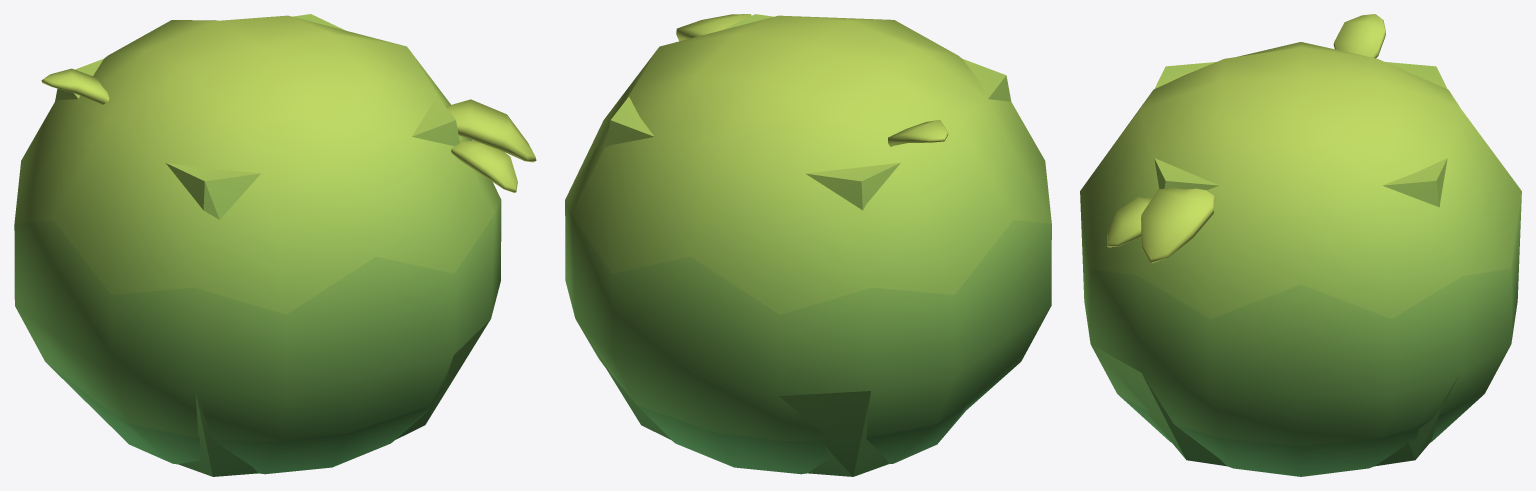
The model's file is bush 04.fbx.
3 views of the same model, side by side, from view 1: azimuth 30°, elevation 25°; view 2: azimuth 150°, elevation 25°; view 3: azimuth 270°, elevation 25° (orthographic). The views are drawn at different scales.
Parts seen in each view (by area): view 1: bush 04, bush 04 low; view 2: bush 04, bush 04 low; view 3: bush 04, bush 04 low.
Part boxes in pixels (x1=…): bush 04: x1=14, y1=15, x2=536, y2=474; bush 04 low: x1=55, y1=14, x2=490, y2=476; bush 04: x1=565, y1=14, x2=1051, y2=474; bush 04 low: x1=577, y1=14, x2=1011, y2=476; bush 04: x1=1080, y1=14, x2=1521, y2=476; bush 04 low: x1=1091, y1=62, x2=1458, y2=466.
Size of the model in its own units: 112 by 98.58 by 112.
Materials: 1 (1 with a texture image).
